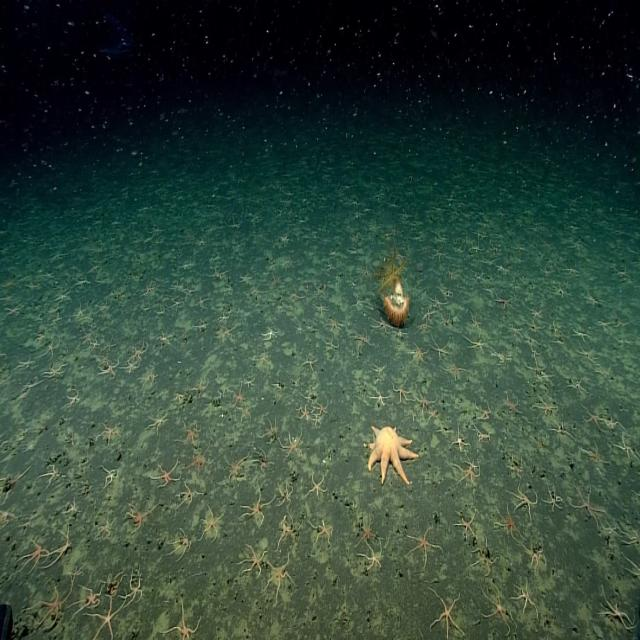brittle-stars: (430, 587, 464, 637), (35, 583, 71, 628), (95, 597, 125, 640), (480, 588, 510, 630), (544, 413, 578, 450), (601, 591, 632, 631), (167, 604, 198, 640), (408, 527, 438, 563), (572, 484, 598, 525), (266, 558, 292, 596), (243, 492, 271, 524), (22, 539, 48, 572), (496, 507, 520, 541), (76, 584, 105, 612), (512, 485, 538, 516), (474, 541, 497, 574), (0, 469, 26, 498), (241, 545, 265, 576), (202, 507, 223, 541), (514, 582, 536, 614), (156, 458, 180, 487), (128, 503, 151, 533), (52, 530, 71, 565), (456, 462, 480, 488), (434, 306, 458, 332), (189, 447, 212, 474), (360, 544, 381, 573), (171, 528, 190, 560), (126, 571, 143, 604), (617, 434, 637, 462), (282, 434, 303, 460), (456, 511, 475, 539), (229, 455, 248, 483), (189, 315, 214, 336), (584, 442, 605, 467), (545, 484, 563, 512), (312, 519, 332, 544), (178, 482, 196, 508), (622, 524, 640, 550), (147, 412, 168, 434), (349, 294, 372, 314), (583, 405, 602, 429), (308, 472, 326, 497), (150, 301, 168, 326), (535, 396, 555, 418), (484, 238, 506, 258), (44, 360, 67, 379), (427, 243, 446, 266), (392, 379, 410, 403), (279, 516, 295, 543), (0, 504, 18, 528), (180, 423, 199, 445), (97, 515, 115, 538), (42, 462, 60, 485), (528, 547, 545, 571), (626, 557, 640, 586), (265, 417, 281, 442), (526, 356, 547, 375), (358, 522, 376, 544), (416, 389, 434, 411), (47, 308, 64, 331), (100, 358, 119, 378), (101, 422, 120, 442), (446, 359, 465, 379), (279, 482, 294, 507), (253, 450, 270, 472), (352, 330, 371, 349), (465, 336, 485, 354), (508, 455, 524, 477), (494, 256, 510, 278), (433, 340, 451, 359), (16, 353, 35, 371), (411, 344, 428, 364), (453, 432, 469, 453), (110, 572, 125, 594), (370, 386, 388, 404), (584, 288, 602, 306), (132, 341, 149, 360), (103, 466, 119, 486), (43, 338, 58, 359), (374, 317, 392, 334), (493, 349, 511, 366), (475, 425, 493, 442), (569, 376, 584, 396), (503, 393, 518, 413), (143, 366, 158, 386), (70, 562, 85, 582), (195, 376, 210, 396), (65, 496, 79, 517), (303, 353, 319, 371), (579, 346, 597, 362), (477, 403, 492, 422), (65, 388, 80, 407), (494, 292, 511, 308), (571, 326, 588, 342), (309, 281, 326, 297), (74, 302, 88, 321), (124, 358, 140, 374), (56, 287, 72, 303), (596, 363, 612, 379), (103, 335, 117, 353), (604, 520, 618, 538), (238, 403, 252, 421), (233, 386, 246, 405), (283, 253, 296, 272), (264, 325, 280, 340), (326, 317, 342, 332), (596, 317, 612, 332), (550, 320, 564, 337), (5, 304, 22, 318), (264, 256, 277, 274), (288, 287, 303, 302), (431, 294, 445, 310), (220, 324, 234, 340), (212, 268, 228, 282), (299, 406, 312, 423), (260, 350, 272, 368), (510, 323, 524, 338), (249, 283, 263, 298), (564, 266, 579, 280), (144, 280, 157, 296), (324, 336, 337, 352), (360, 264, 372, 281), (421, 308, 435, 322), (570, 239, 584, 253), (197, 297, 210, 312), (553, 282, 566, 297), (230, 215, 243, 230), (316, 402, 328, 418), (470, 313, 481, 330), (315, 302, 329, 315), (242, 376, 256, 389), (427, 409, 440, 423), (75, 276, 89, 289), (90, 262, 103, 276), (605, 416, 617, 431), (160, 333, 172, 348), (416, 321, 431, 333), (98, 298, 110, 313), (173, 392, 184, 408), (240, 272, 253, 285), (540, 372, 553, 385), (471, 271, 484, 284), (482, 255, 495, 268), (527, 337, 540, 350), (171, 298, 183, 312), (312, 415, 324, 429), (218, 312, 230, 326), (90, 337, 102, 351), (35, 332, 47, 346), (442, 284, 454, 298), (528, 321, 541, 333), (469, 242, 482, 254), (453, 243, 465, 256), (540, 266, 552, 279), (448, 266, 459, 280), (81, 327, 91, 342), (540, 238, 552, 250), (184, 285, 195, 298), (533, 306, 544, 318), (394, 328, 406, 339), (43, 269, 54, 281), (473, 229, 484, 241), (272, 275, 283, 287), (399, 209, 410, 221), (516, 242, 527, 254), (197, 236, 208, 248), (484, 283, 495, 295), (480, 218, 492, 229), (432, 203, 443, 215), (439, 234, 450, 245), (171, 282, 182, 293), (327, 262, 337, 274), (305, 392, 315, 404), (304, 323, 314, 335), (348, 278, 358, 290), (353, 210, 364, 220), (281, 234, 290, 246), (133, 235, 142, 247), (295, 321, 303, 334), (328, 248, 338, 258), (351, 199, 360, 210)
